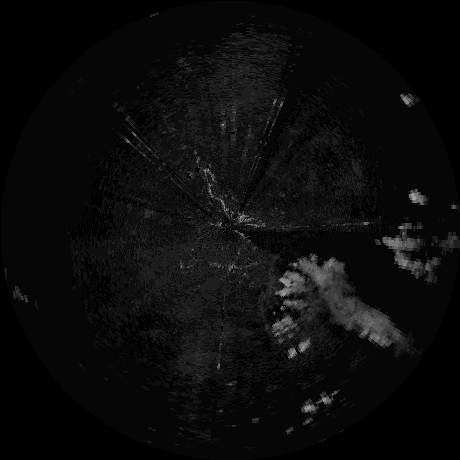frontgust: (255, 257, 278, 317)
